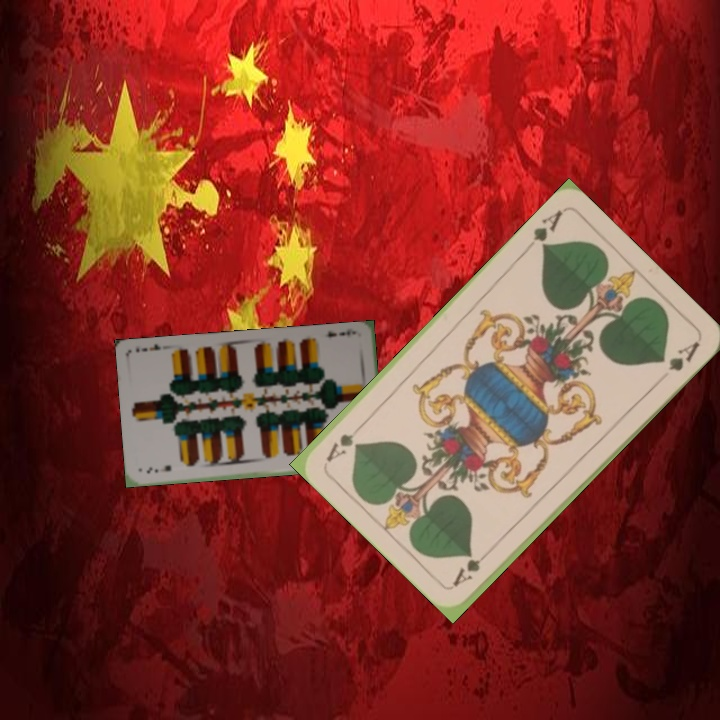E7: (323, 325, 358, 340), (143, 461, 174, 476)
GA: (448, 543, 496, 590), (521, 205, 567, 254)
